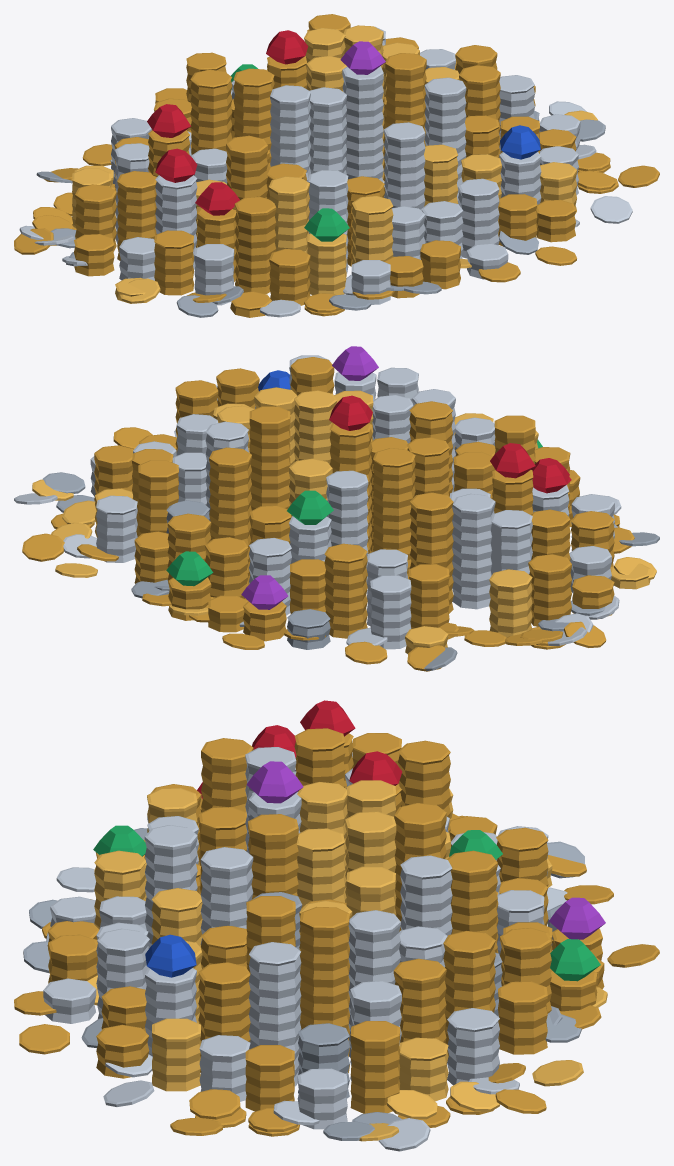
The model's file is PileMedium.fbx.
3 views of the same model, one above another, from view 1: azimuth 30°, elevation 25°; view 2: azimuth 150°, elevation 25°; view 3: azimuth 270°, elevation 25° (orthographic). The views are drawn at different scales.
Parts seen in each view (by area): view 1: PileMedium; view 2: PileMedium; view 3: PileMedium.
Part boxes in pixels (x1,y1,x2,y2): PileMedium: (14,14,659,317); PileMedium: (14,346,659,671); PileMedium: (14,700,659,1151).
Size of the model in its own units: 109 by 32.3 by 85.32.
